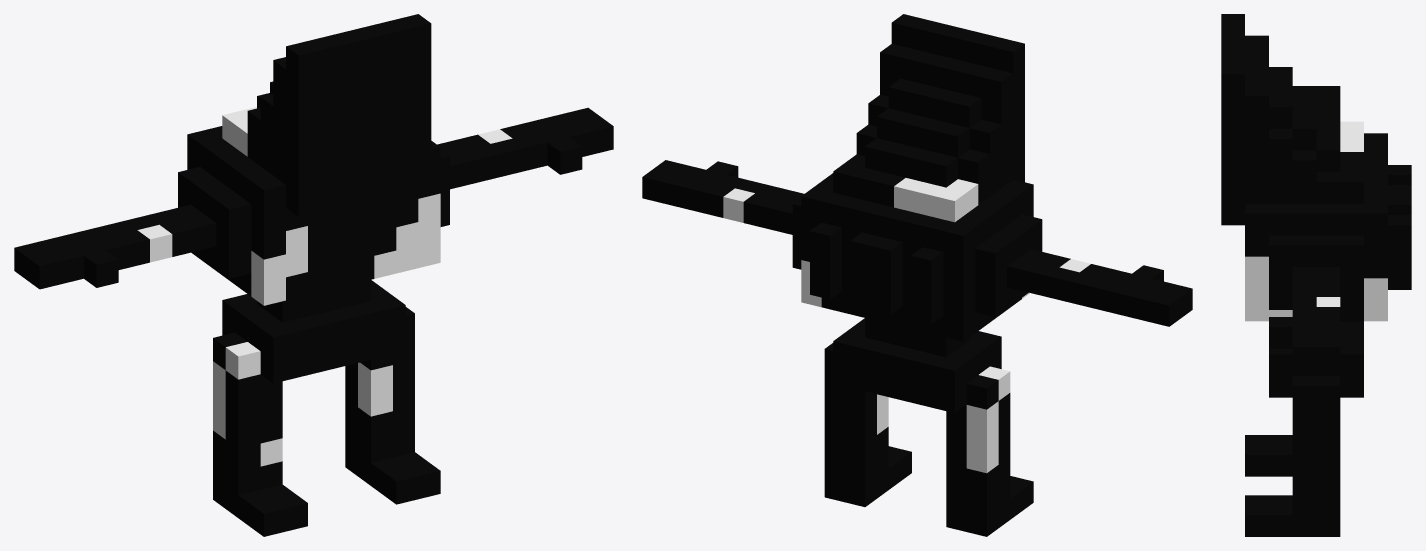
Rendered from Robot2.obj.
3 views of the same model, side by side, from view 1: azimuth 30°, elevation 25°; view 2: azimuth 150°, elevation 25°; view 3: azimuth 270°, elevation 25° (orthographic). The views are drawn at different scales.
Size of the model in its own units: 2.6 by 2.1 by 0.8.
